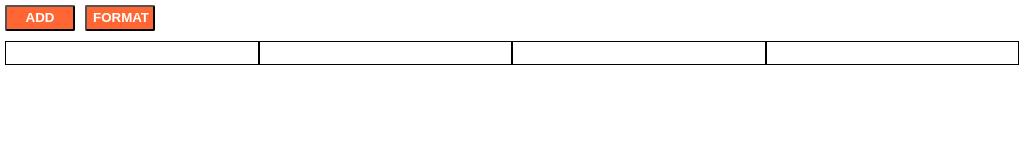
App Component › user clicks add button and result is echoed
Type "123456" into the 1st field named "value1" at (132, 53), box [5,41,258,65]
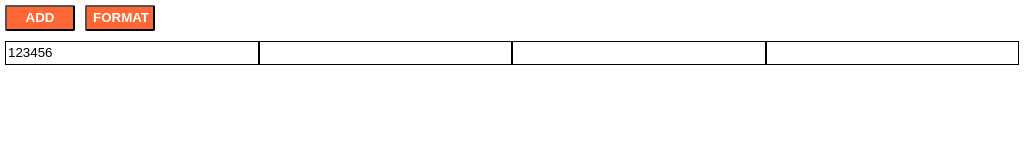
Type "1" into the 2nd field named "value2" at (385, 53), box [258,41,512,65]
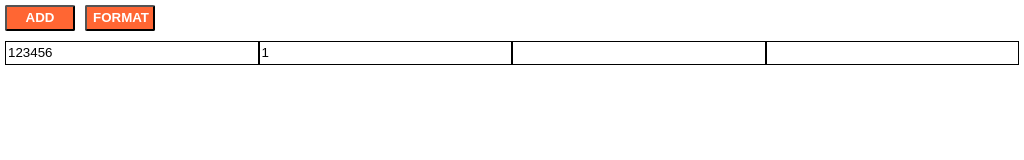
Type "1" into the 3rd field named "value3" at (639, 53), box [512,41,766,65]
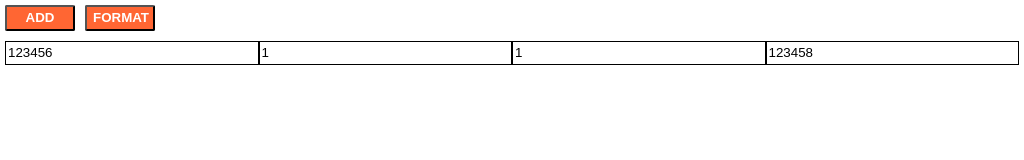
Result: the 4th field named "result" holds "123458" at [766,41,1019,65]
